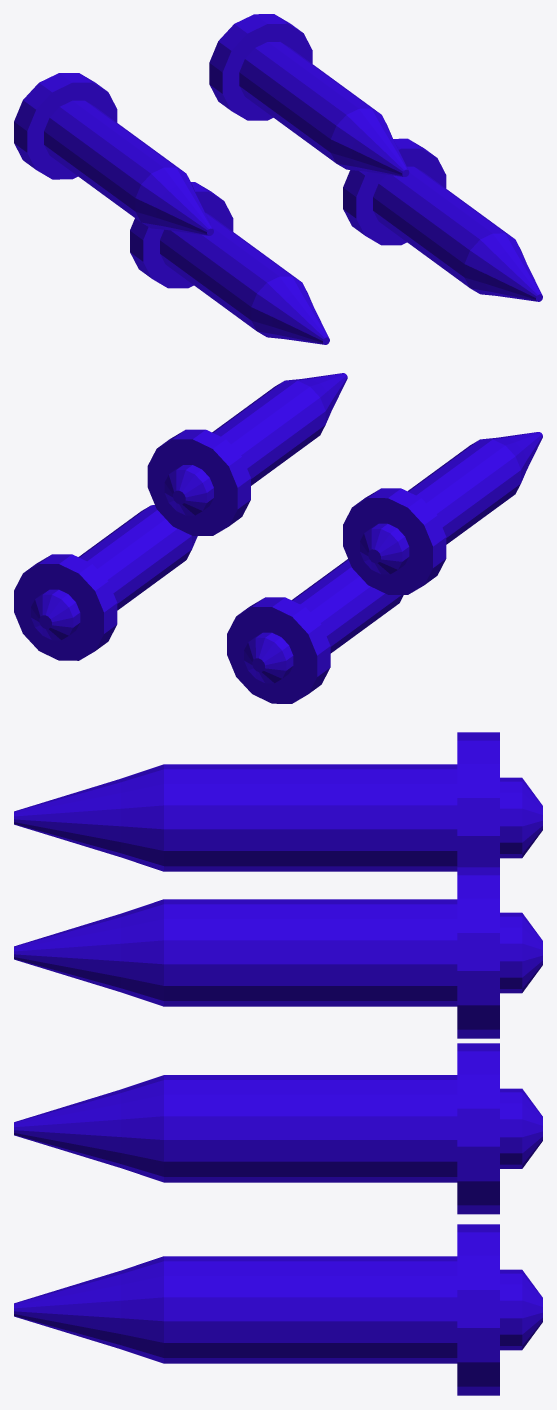
Rendered from MechanicTypeBoss2_ballchild.glb.
3 renders of one model, top to bottom at view 1: azimuth 30°, elevation 25°; view 2: azimuth 150°, elevation 25°; view 3: azimuth 270°, elevation 25°, orthographic. The views are drawn at different scales.
Parts seen in each view (by area): view 1: mssisle; view 2: mssisle; view 3: mssisle.
Part boxes in pixels (x1,y1,x2,y2): mssisle: [14, 14, 542, 344]; mssisle: [14, 373, 542, 703]; mssisle: [14, 732, 542, 1395].
Size of the model in its own units: 7.49 by 4.34 by 5.1.
